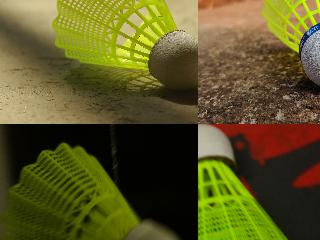shuttlecock: (0, 142, 184, 239), (198, 124, 314, 239), (52, 0, 197, 90), (261, 0, 319, 89)
